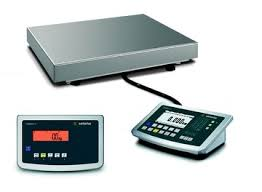Industrial Scale: (26, 14, 234, 159)
